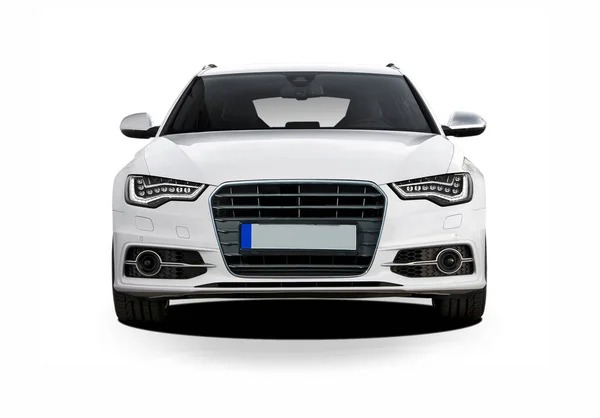car: (105, 61, 492, 340)
